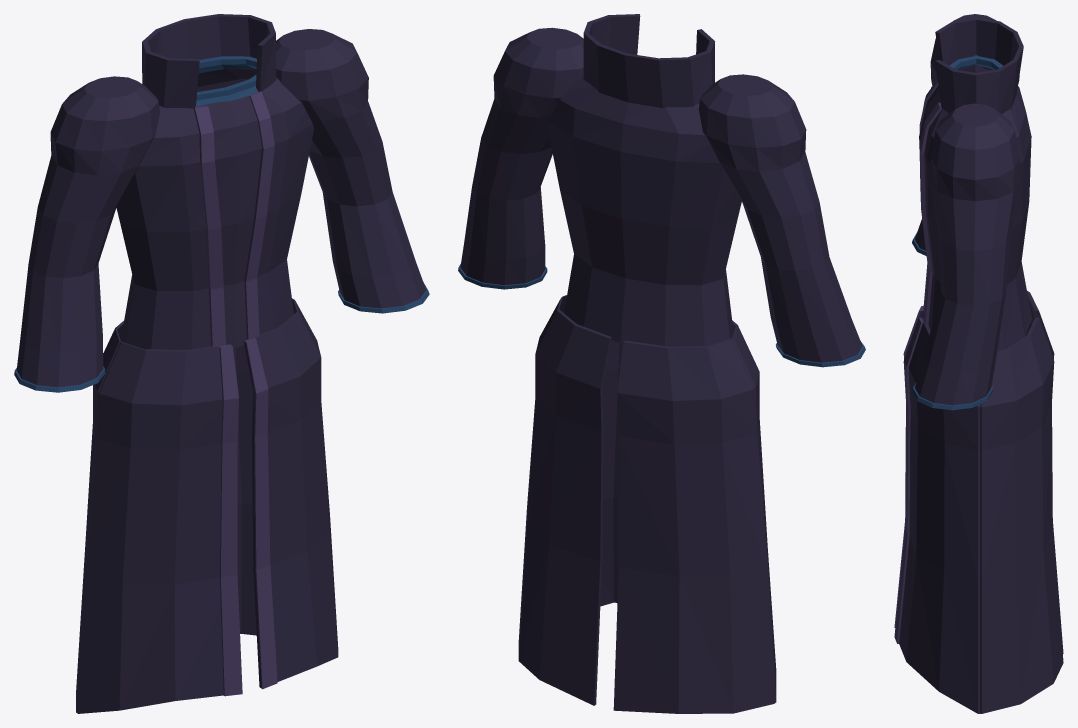
File: dark_robe-male.glb
3 views of the same model, side by side, from view 1: azimuth 30°, elevation 25°; view 2: azimuth 150°, elevation 25°; view 3: azimuth 270°, elevation 25° (orthographic). The views are drawn at different scales.
Parts seen in each view (by area): view 1: Flowing robe skirt -1, Dark robe torso, Flowing robe skirt 1, cloth long sleeve -1, cloth long sleeve 1, Standing robe collar, Robe skirt bound opening -1, Robe skirt bound opening 1, Robe front facing -1, Robe front facing 1, Fitted tunic neckline; view 2: Flowing robe skirt -1, Dark robe torso, Flowing robe skirt 1, cloth long sleeve -1, cloth long sleeve 1, Standing robe collar; view 3: Flowing robe skirt 1, cloth long sleeve 1, Standing robe collar, Dark robe torso, Robe skirt bound opening 1, Robe front facing 1, cloth long sleeve -1, Flowing robe skirt -1, Fitted tunic neckline, Sleeve cuff binding 1, Robe skirt bound opening -1.
Boxes of the visible parts, bbox=[...] form: Flowing robe skirt -1: bbox=[76, 321, 230, 713]; Dark robe torso: bbox=[116, 69, 313, 350]; Flowing robe skirt 1: bbox=[233, 298, 338, 688]; cloth long sleeve -1: bbox=[16, 76, 159, 387]; cloth long sleeve 1: bbox=[276, 29, 426, 308]; Standing robe collar: bbox=[142, 14, 275, 108]; Robe skirt bound opening -1: bbox=[219, 344, 242, 696]; Robe skirt bound opening 1: bbox=[245, 338, 277, 689]; Robe front facing -1: bbox=[194, 106, 225, 347]; Robe front facing 1: bbox=[244, 91, 274, 339]; Fitted tunic neckline: bbox=[196, 56, 257, 106]; Flowing robe skirt -1: bbox=[613, 320, 776, 713]; Dark robe torso: bbox=[547, 76, 741, 346]; Flowing robe skirt 1: bbox=[518, 295, 623, 705]; cloth long sleeve -1: bbox=[699, 74, 862, 362]; cloth long sleeve 1: bbox=[460, 27, 583, 285]; Standing robe collar: bbox=[583, 14, 714, 108]; Flowing robe skirt 1: bbox=[899, 317, 1063, 713]; cloth long sleeve 1: bbox=[914, 103, 1019, 405]; Standing robe collar: bbox=[935, 17, 1023, 113]; Dark robe torso: bbox=[919, 86, 1031, 350]; Robe skirt bound opening 1: bbox=[894, 317, 922, 643]; Robe front facing 1: bbox=[919, 102, 941, 324]; cloth long sleeve -1: bbox=[914, 14, 1019, 250]; Flowing robe skirt -1: bbox=[905, 291, 1063, 653]; Fitted tunic neckline: bbox=[937, 56, 1003, 101]; Sleeve cuff binding 1: bbox=[912, 382, 992, 410]; Robe skirt bound opening -1: bbox=[894, 306, 923, 627].
Size of the model in its own units: 3.99 by 6.12 by 1.53.
